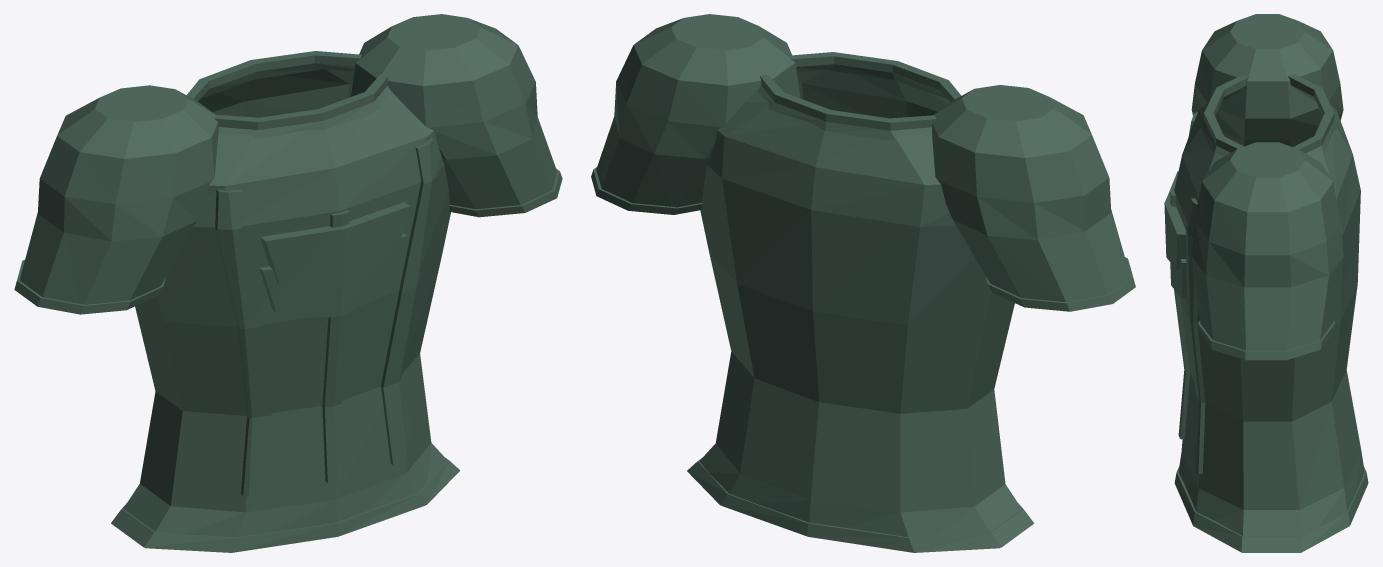
Rendered from leather_chest-male-scaledHide.glb.
The picture shows the model from 3 angles, left to right: view 1: azimuth 30°, elevation 25°; view 2: azimuth 150°, elevation 25°; view 3: azimuth 270°, elevation 25°; orthographic projection. The views are drawn at different scales.
Visible parts, largest first — view 1: leather tunic torso, leather upper sleeve -1, leather upper sleeve 1, Sewn tunic side facing -1, Lapped hide reinforcement leather tunic torso 0, Fitted tunic neckline, Sewn tunic side facing 1, Bound tunic hem, Lapped hide reinforcement leather tunic torso 1, Reinforced tunic closure, Sleeve cuff binding -1, Sleeve cuff binding 1; view 2: leather tunic torso, leather upper sleeve -1, leather upper sleeve 1, Fitted tunic neckline, Bound tunic hem, Sleeve cuff binding -1, Sleeve cuff binding 1; view 3: leather tunic torso, leather upper sleeve 1, leather upper sleeve -1, Bound tunic hem, Fitted tunic neckline, Sewn tunic side facing 1, Sleeve cuff binding 1, Lapped hide reinforcement leather tunic torso 0, Reinforced tunic closure, Lapped hide reinforcement leather tunic torso 1.
Part boxes in pixels (box(x1,y1,x2,y2)): leather tunic torso: box(123, 69, 450, 552); leather upper sleeve -1: box(19, 85, 218, 304); leather upper sleeve 1: box(351, 14, 556, 209); Sewn tunic side facing -1: box(215, 189, 272, 496); Lapped hide reinforcement leather tunic torso 0: box(260, 202, 409, 288); Fitted tunic neckline: box(186, 51, 392, 138); Sewn tunic side facing 1: box(381, 137, 437, 465); Bound tunic hem: box(111, 457, 459, 552); Lapped hide reinforcement leather tunic torso 1: box(259, 233, 406, 318); Reinforced tunic closure: box(322, 210, 349, 482); Sleeve cuff binding -1: box(14, 259, 165, 314); Sleeve cuff binding 1: box(449, 168, 562, 217); leather tunic torso: box(699, 70, 1021, 552); leather upper sleeve -1: box(932, 85, 1130, 301); leather upper sleeve 1: box(596, 14, 800, 207); Fitted tunic neckline: box(757, 52, 961, 140); Bound tunic hem: box(687, 458, 1034, 552); Sleeve cuff binding -1: box(985, 257, 1135, 311); Sleeve cuff binding 1: box(591, 167, 702, 214); leather tunic torso: box(1174, 99, 1364, 552); leather upper sleeve 1: box(1191, 142, 1343, 350); leather upper sleeve -1: box(1191, 14, 1343, 146); Bound tunic hem: box(1174, 466, 1368, 552); Fitted tunic neckline: box(1201, 74, 1336, 156); Sewn tunic side facing 1: box(1186, 198, 1205, 473); Sleeve cuff binding 1: box(1198, 321, 1334, 360); Lapped hide reinforcement leather tunic torso 0: box(1164, 171, 1186, 269); Reinforced tunic closure: box(1170, 188, 1190, 439); Lapped hide reinforcement leather tunic torso 1: box(1170, 259, 1186, 297).
Size of the model in its own units: 3.45 by 2.71 by 1.29.
